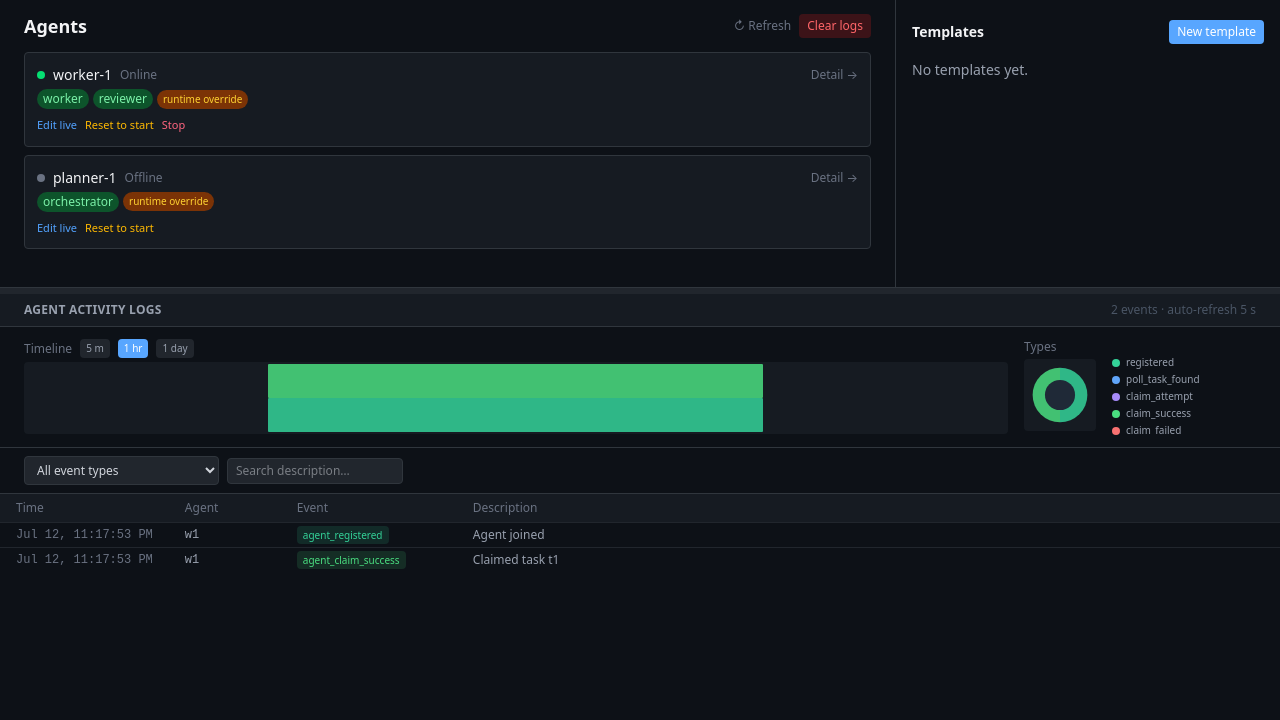
Test: Agents — agent selection › shows "Filtered to agent" chip when an agent is selected
Click agent card to select it.
Click the text "worker-1" at (82, 75), box [53,65,112,85]
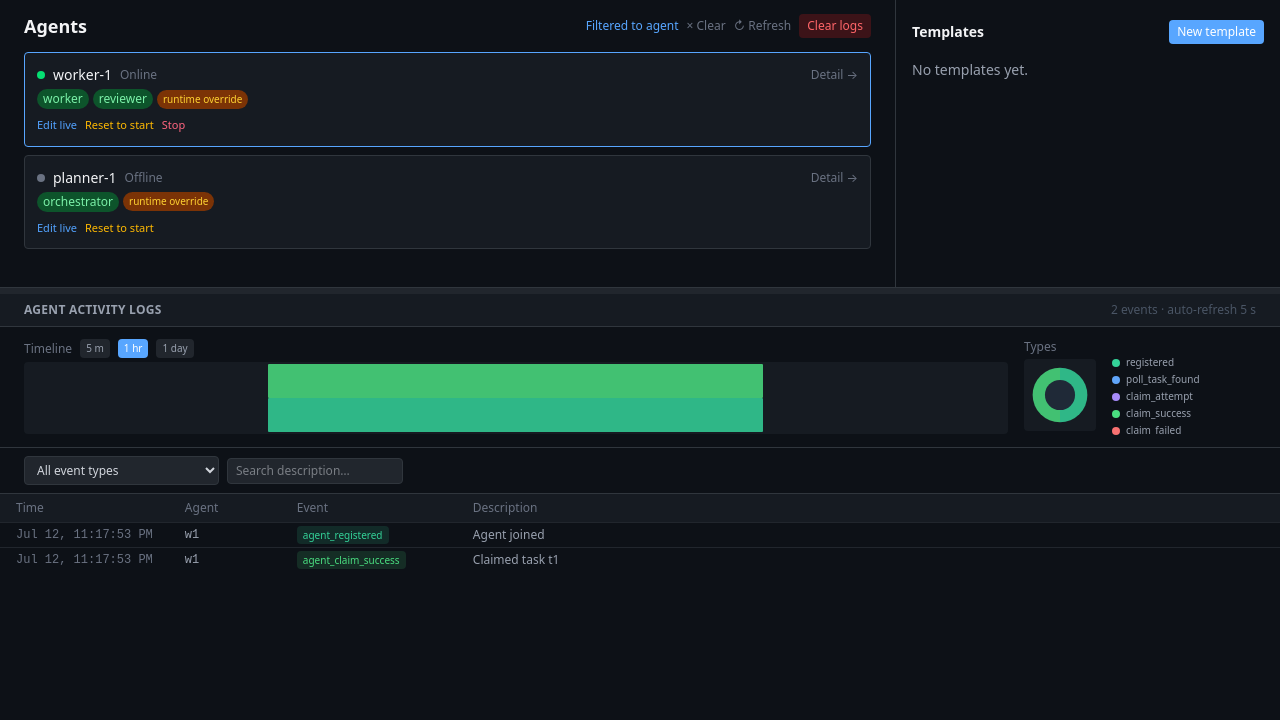
Result: the text "Filtered to agent" is shown at [586,18,679,34]
